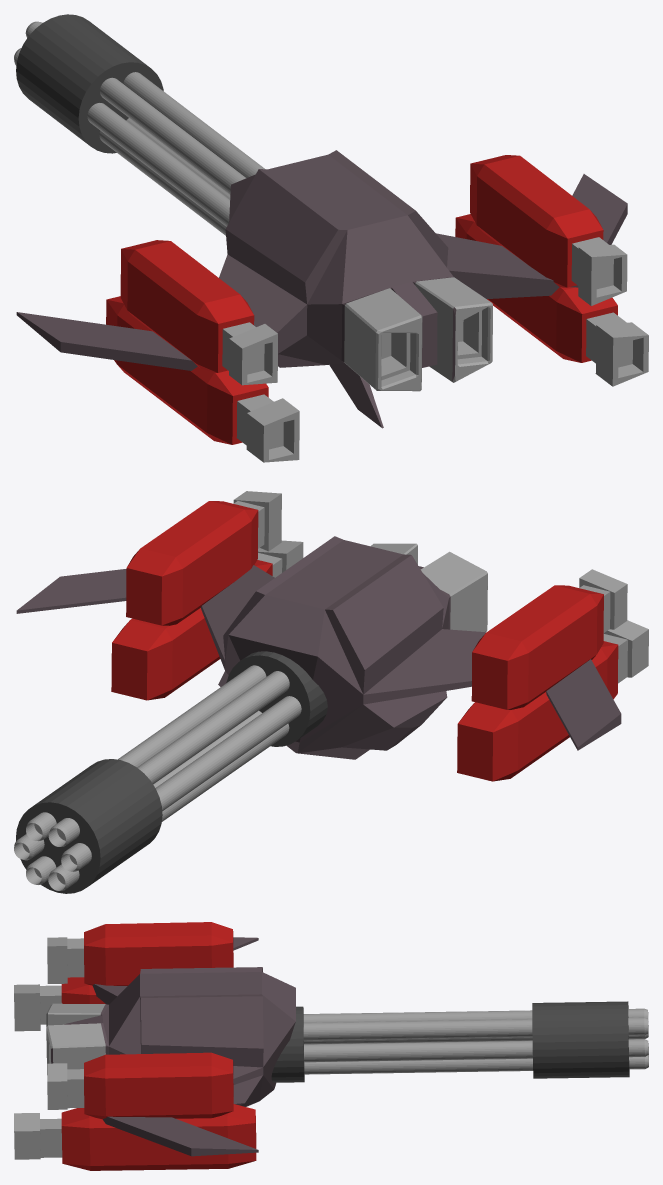
The model's file is ガトリング 2.fbx.
3 views of the same model, one above another, from view 1: azimuth 30°, elevation 25°; view 2: azimuth 150°, elevation 25°; view 3: azimuth 270°, elevation 25° (orthographic). The views are drawn at different scales.
Parts seen in each view (by area): view 1: body, ガトリング, body.001, body.002, body.004, body.003; view 2: body, ガトリング, body.002, body.001, body.004, body.003; view 3: body, ガトリング, body.002, body.003, body.001, body.004.
Part boxes in pixels (x1,y1,x2,y2): body: (16, 150, 627, 428); ガトリング: (14, 14, 265, 235); body.001: (120, 240, 277, 385); body.002: (470, 155, 627, 305); body.004: (106, 296, 299, 462); body.003: (455, 214, 648, 386); body: (16, 536, 621, 759); ガトリング: (14, 651, 327, 893); body.002: (126, 491, 281, 625); body.001: (471, 569, 627, 709); body.004: (457, 620, 648, 781); body.003: (111, 540, 303, 700); body: (46, 937, 295, 1156); ガトリング: (271, 1001, 648, 1082); body.002: (47, 1052, 233, 1119); body.003: (14, 1104, 256, 1170); body.001: (47, 922, 233, 985); body.004: (14, 977, 105, 1031).
Bounding box in the file's own units: 532 × 185 × 673.
